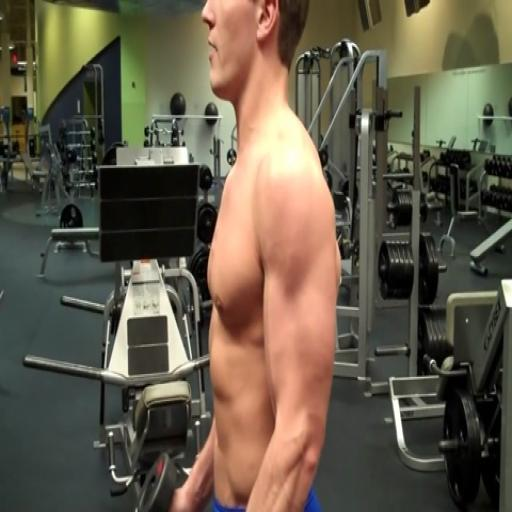exercise: (163, 0, 345, 511)
